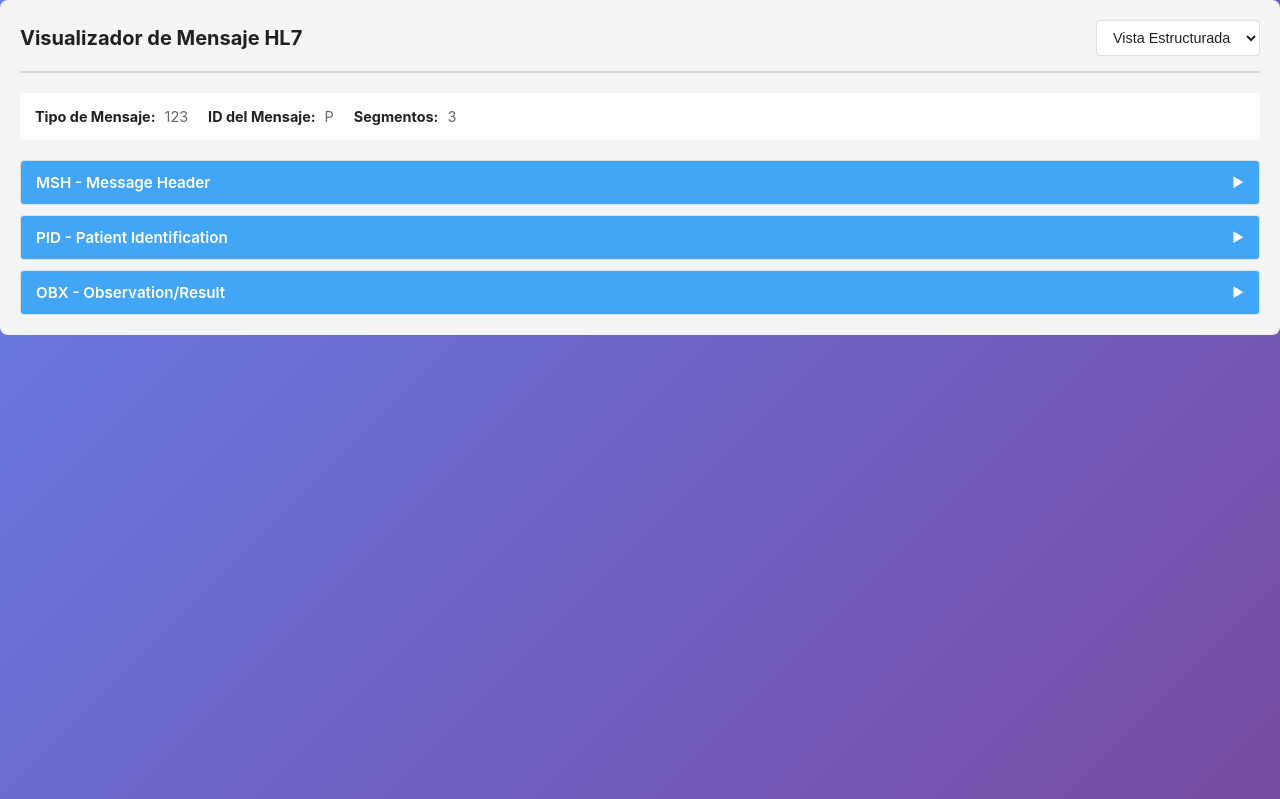
Test case: Hl7MessageViewer › collapses segment on second click
This screenshot has width=1280, height=799.
Step 1. Click the text "MSH - Message Header ▶" → (640, 182), box [21, 161, 1259, 204]
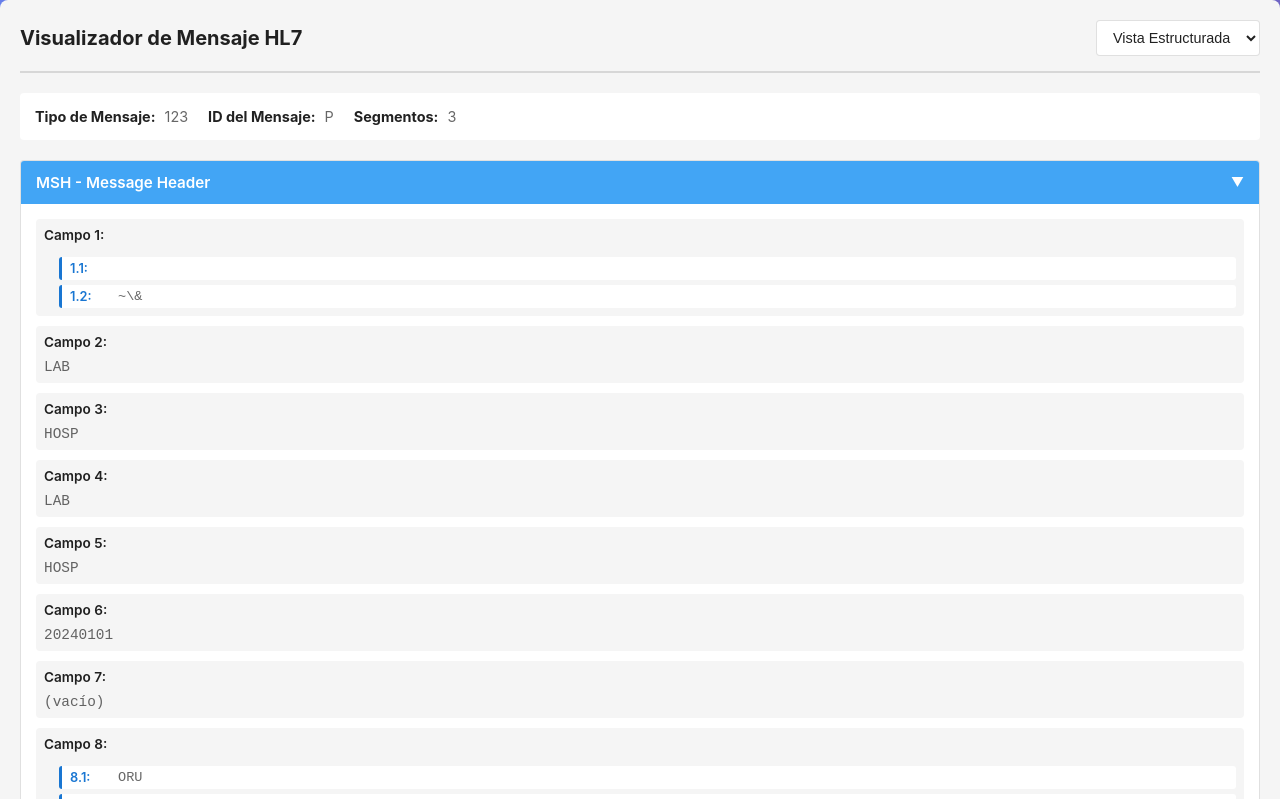
Check: the text "Campo 1:" is shown, box [44, 227, 104, 243]
Step 2. Click the text "MSH - Message Header ▼" → (640, 182), box [21, 161, 1259, 204]
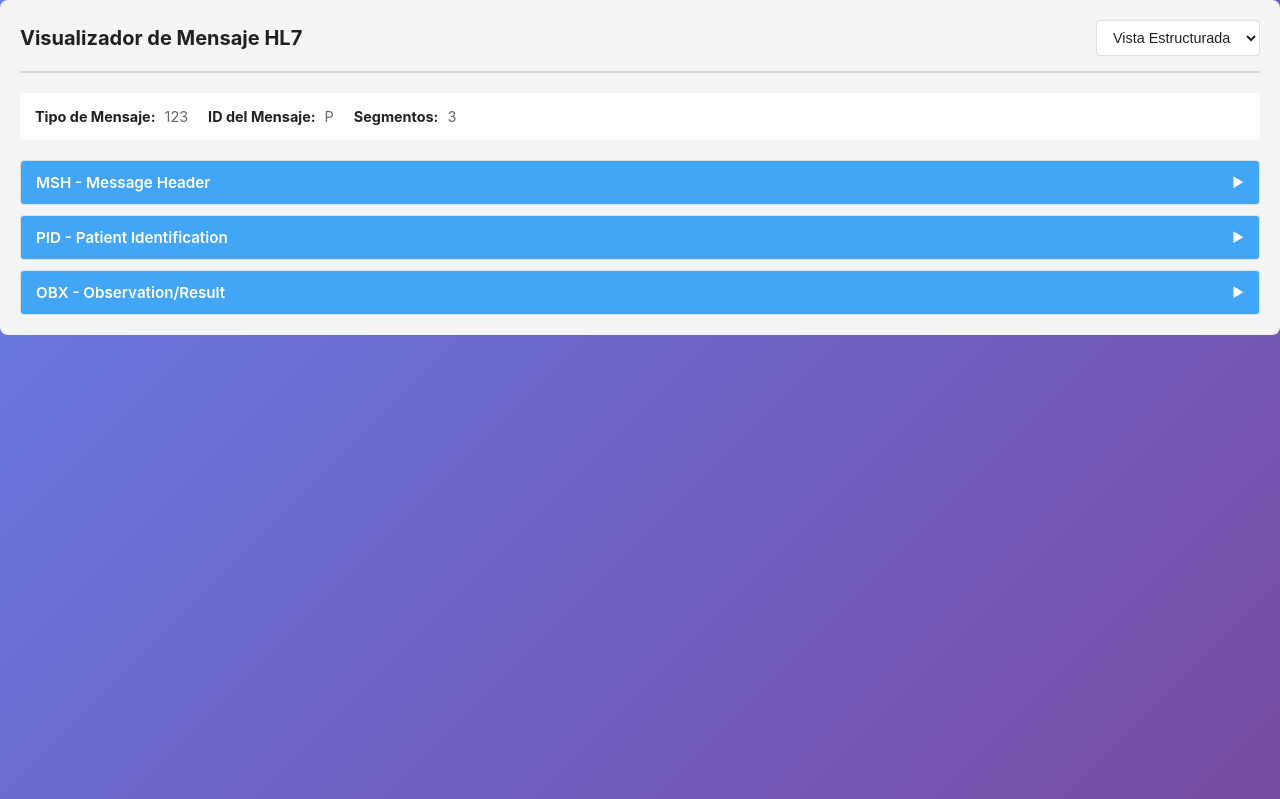
Check: the text "Campo 1:" is not shown
